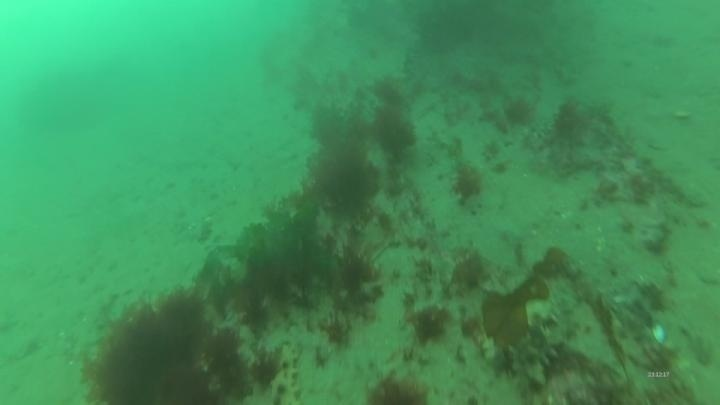holothurian: (512, 277, 579, 396), (266, 340, 306, 405)
